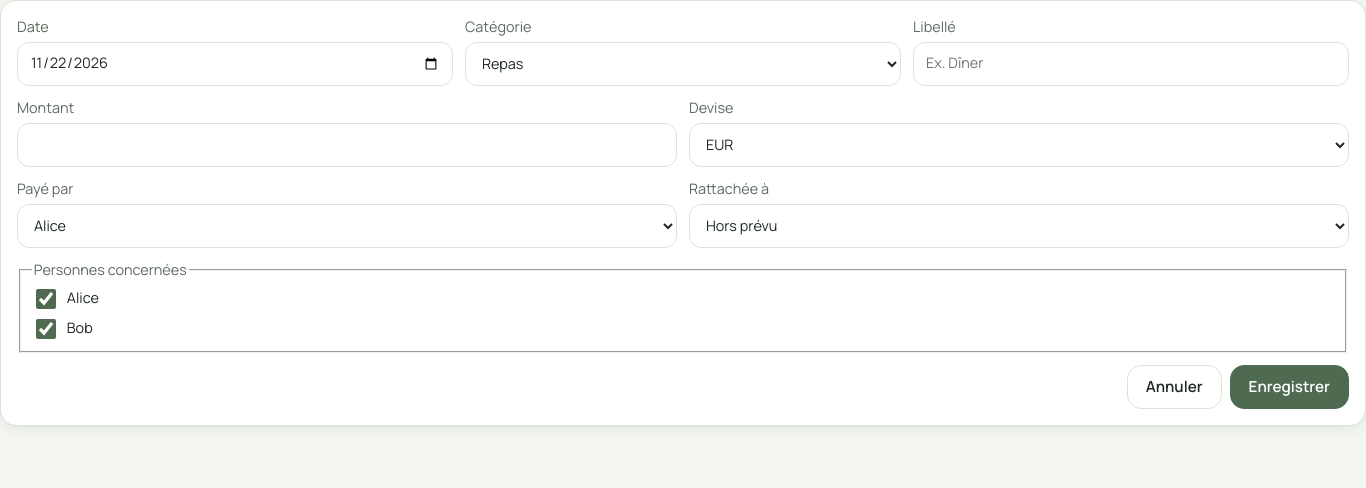
Test: ExpenseForm › refuse un montant nul
Type "0" into the field labelled "Montant" at (347, 145), box [17,123,677,167]
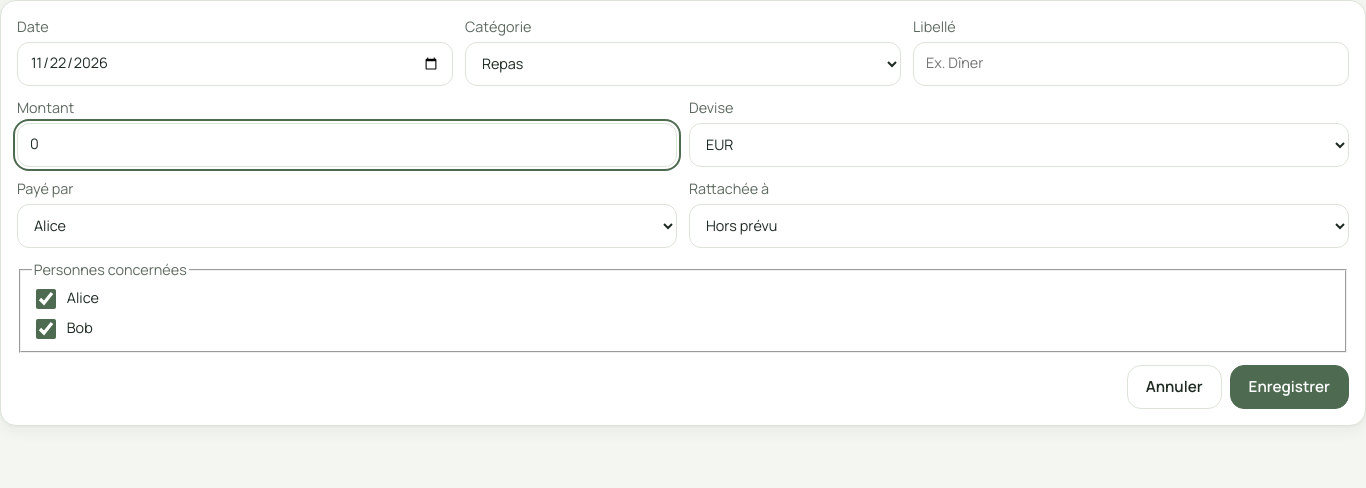
Click the button "Enregistrer" at (1289, 386), box [1230,364,1349,408]
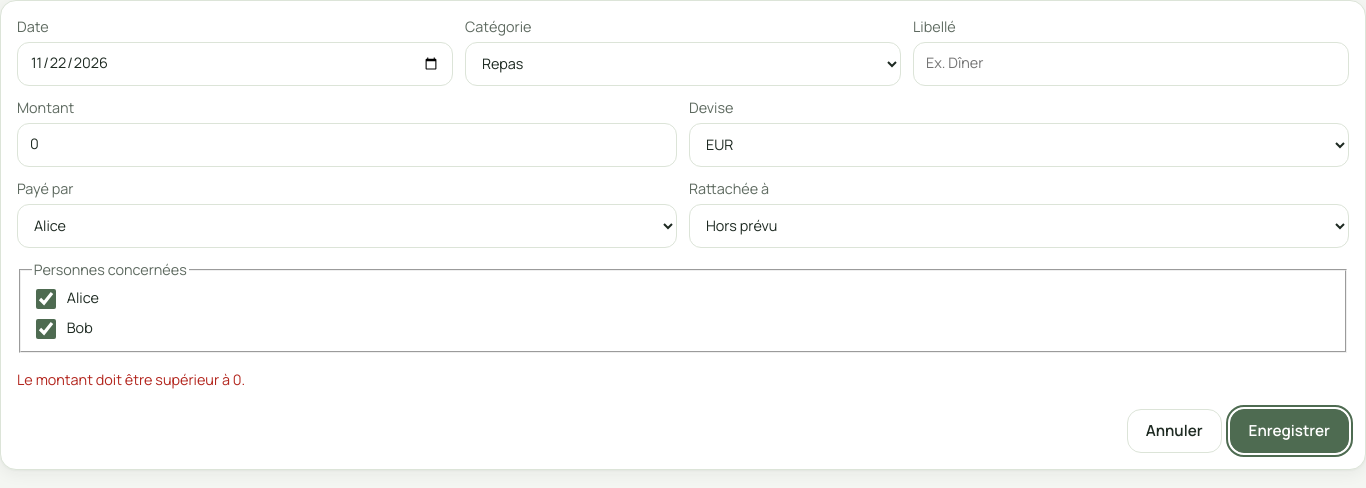
expect the text "Le montant doit être supérieur à 0." is shown: met, box [17,370,245,389]
